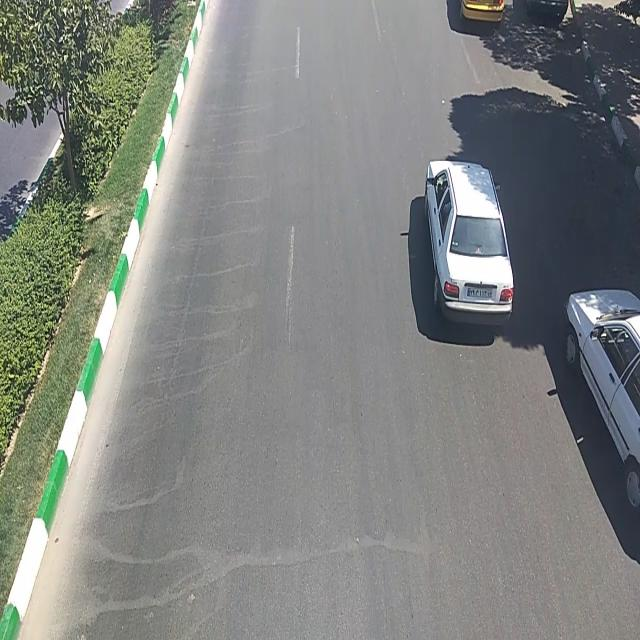car: (565, 289, 640, 506), (425, 157, 513, 335)
